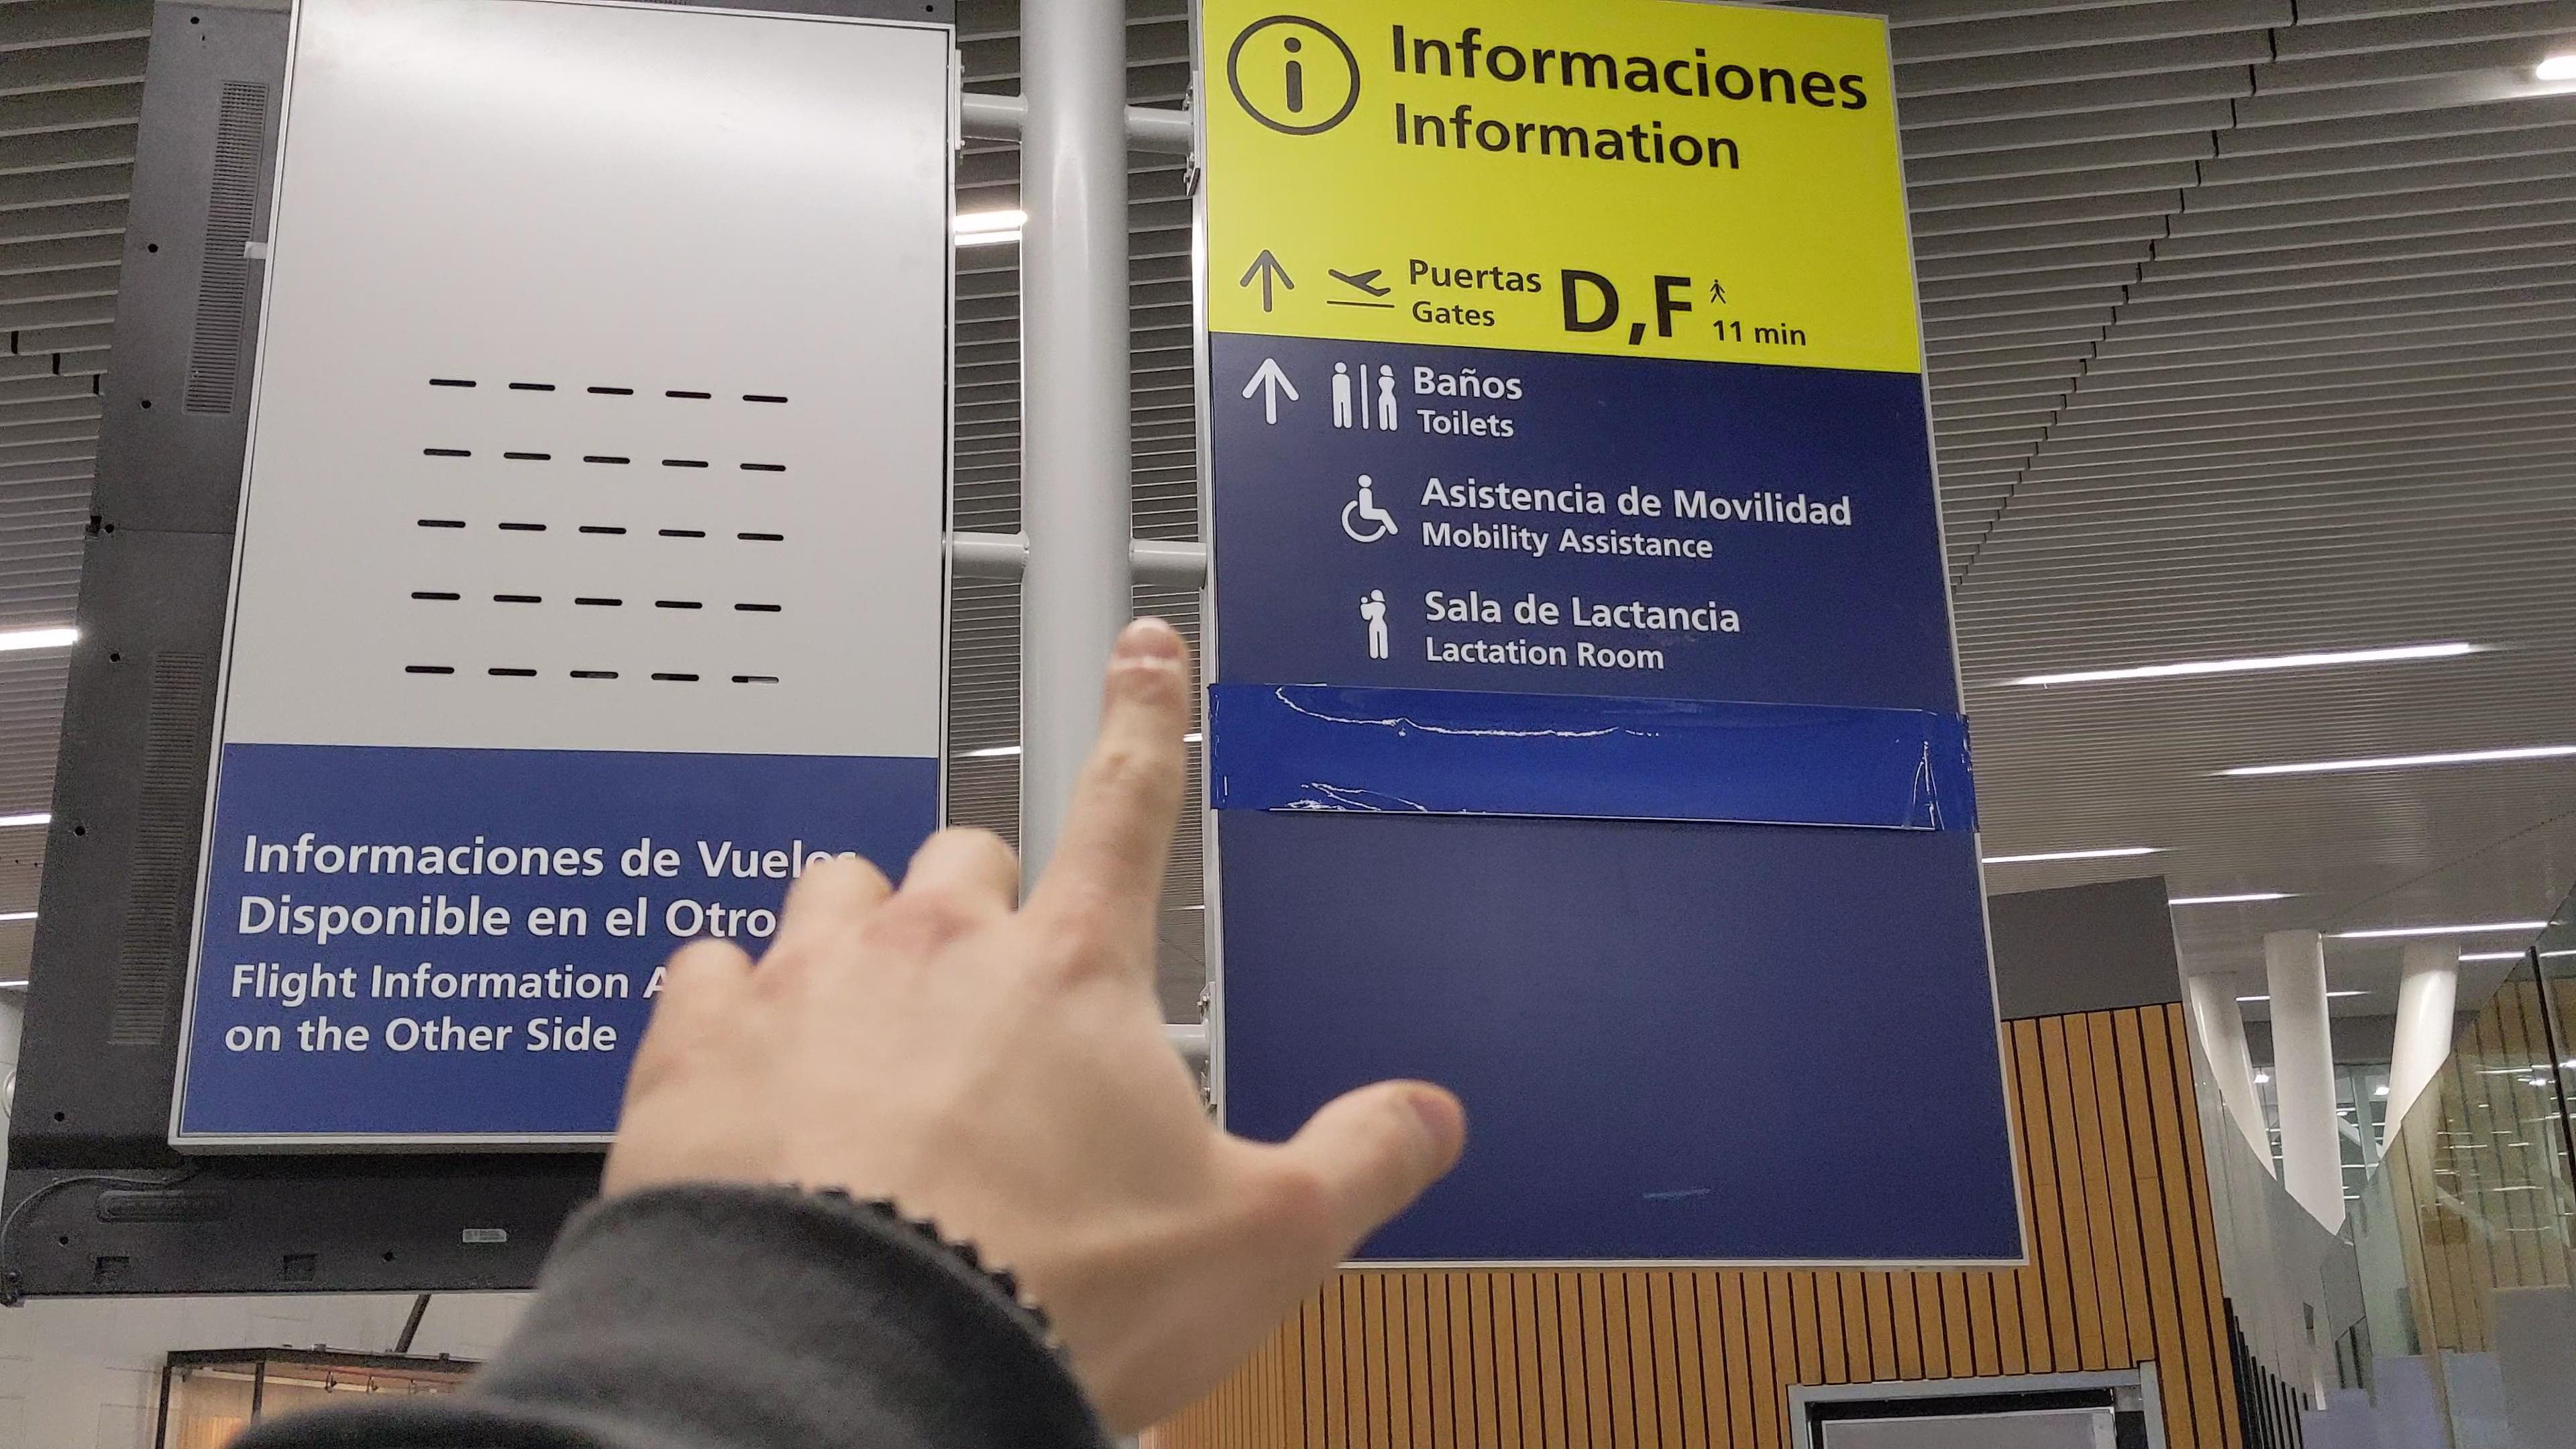airplane symbol: (1323, 262, 1394, 301)
bathrooms: (1327, 357, 1401, 433)
handicapped symbol: (1334, 471, 1403, 548)
thin up arrow: (1235, 246, 1299, 317), (1238, 356, 1302, 426)
